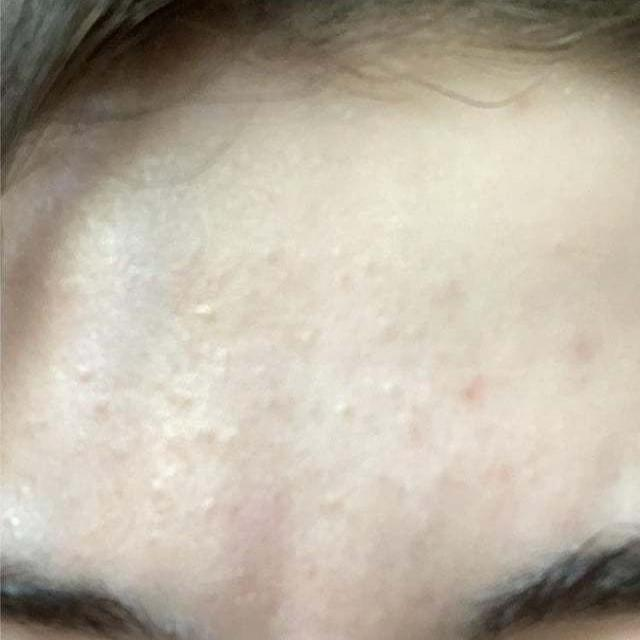fungal: (1, 243, 596, 544)
